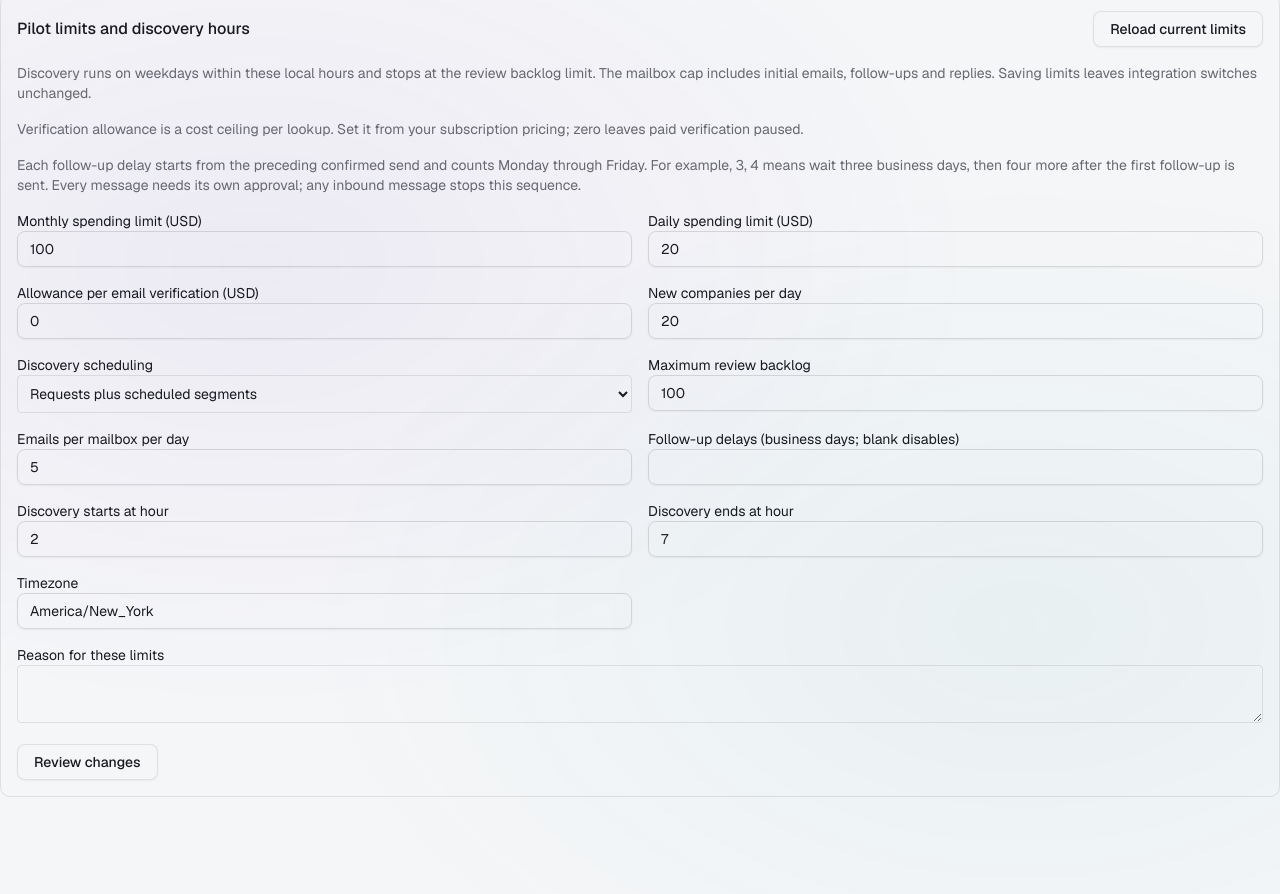
Test case: holds a failed write until refresh, then reloads the newer operator values for a fresh review
Replace the text in the field labelled "Monthly spending limit (USD)" with "500" at (324, 249), box [17, 231, 632, 267]
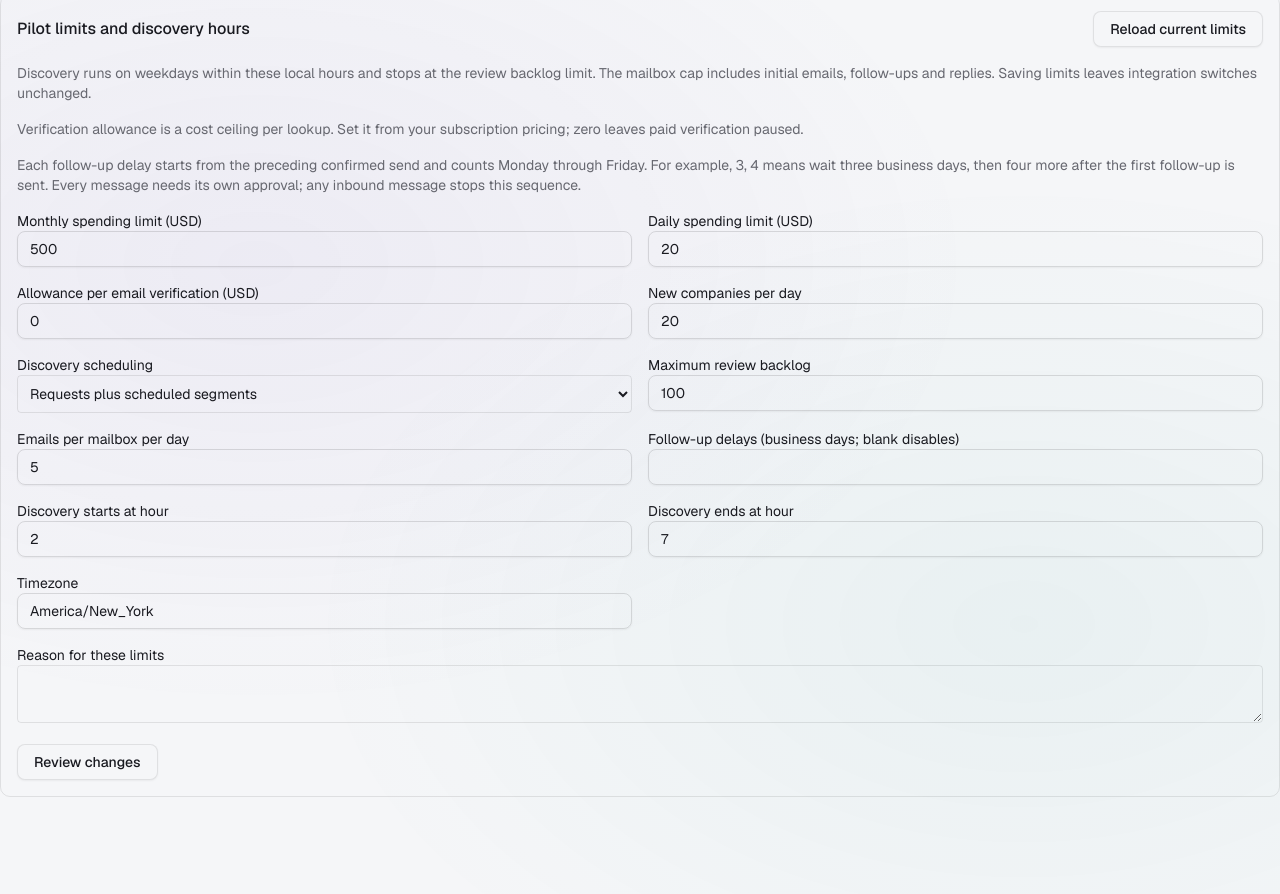
Type "Reviewed pilot spending ceiling" into the text box labelled "Reason for these limits" at (640, 694), box [17, 665, 1263, 723]
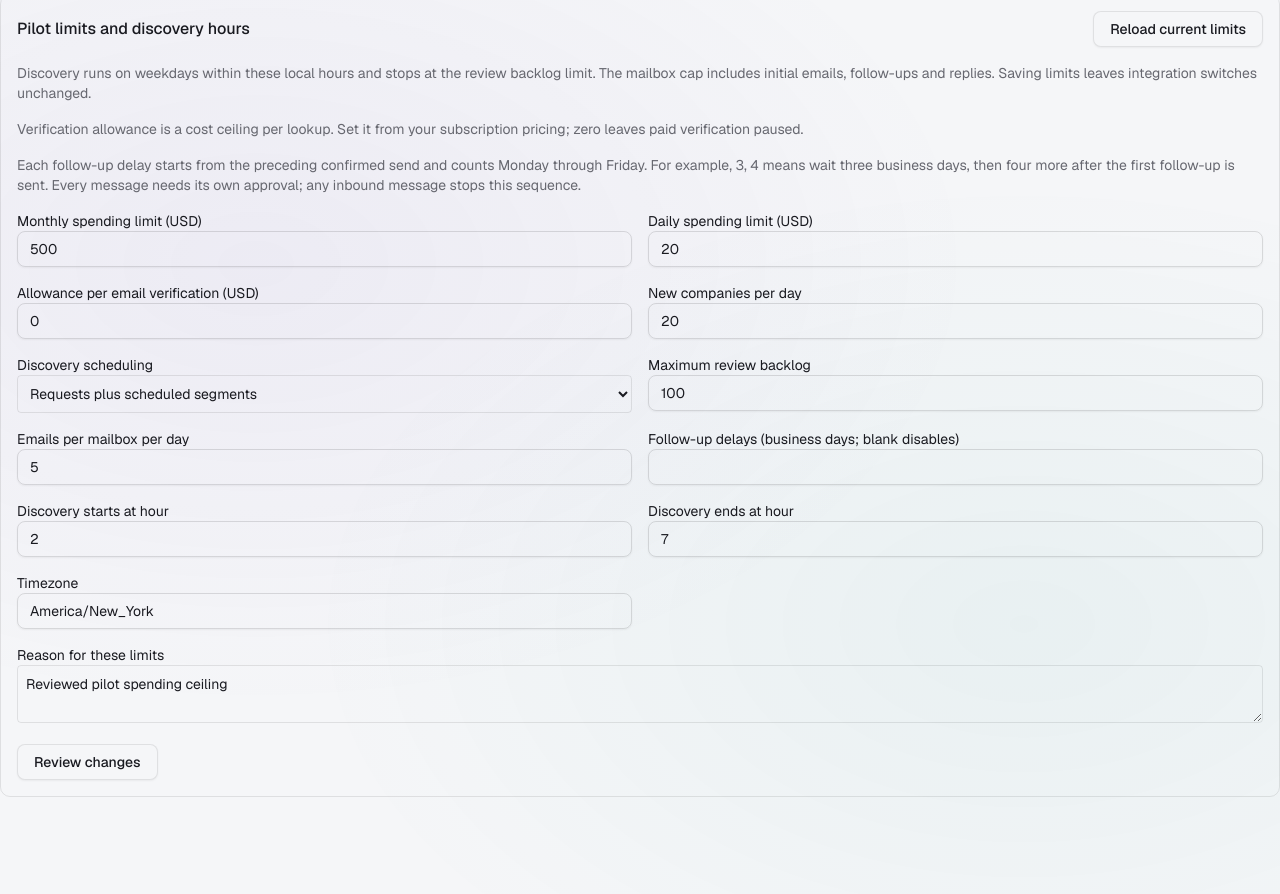
Click the button "Review changes" at (87, 762), box [17, 744, 158, 780]
(page scrolled)
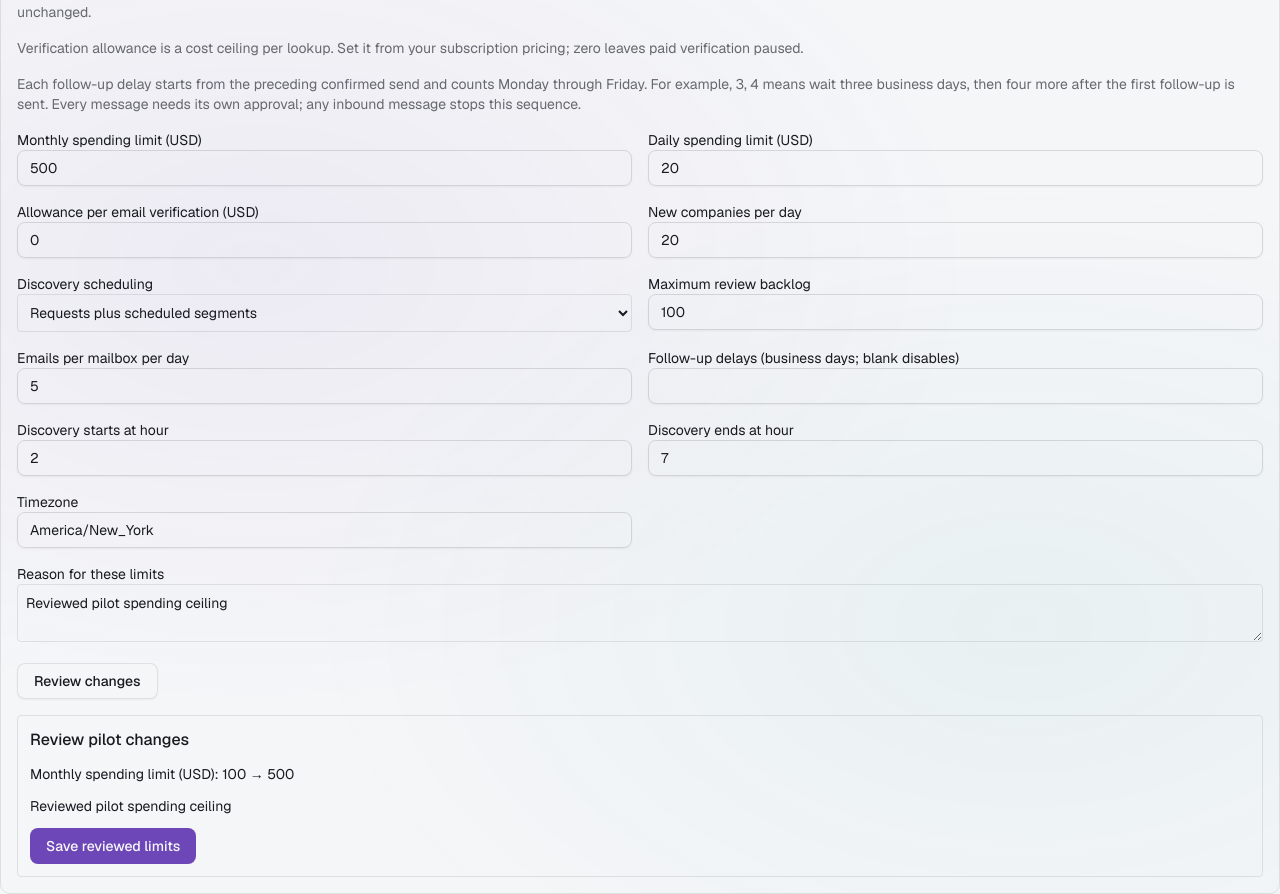
Click the button "Save reviewed limits" at (113, 846), box [30, 828, 196, 864]
(page scrolled)
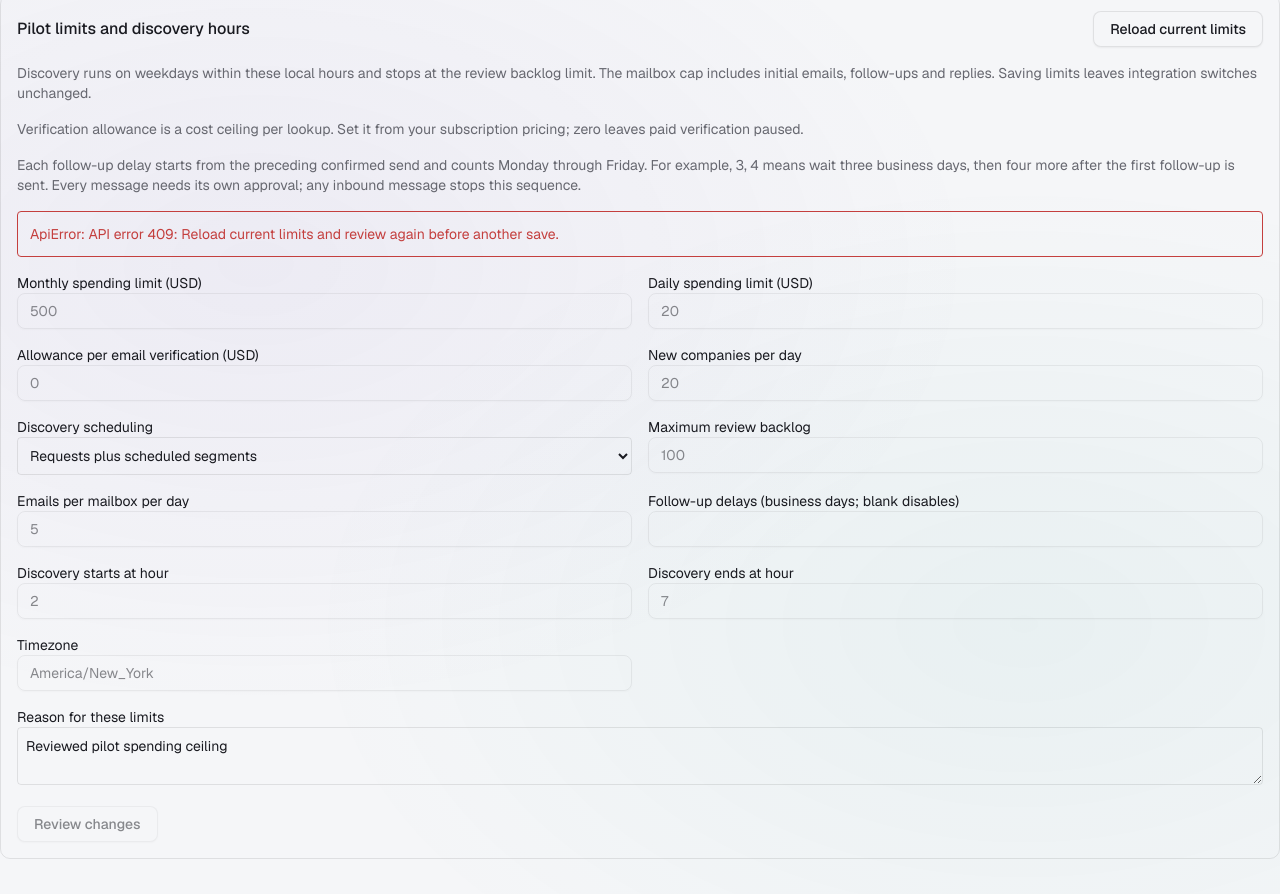
Expected: the message shows "Reload current limits", [30, 225, 558, 243]
Expected: the button "Review changes" is disabled, [17, 806, 158, 842]
Click the button "Reload current limits" at (1178, 29), box [1093, 11, 1263, 47]
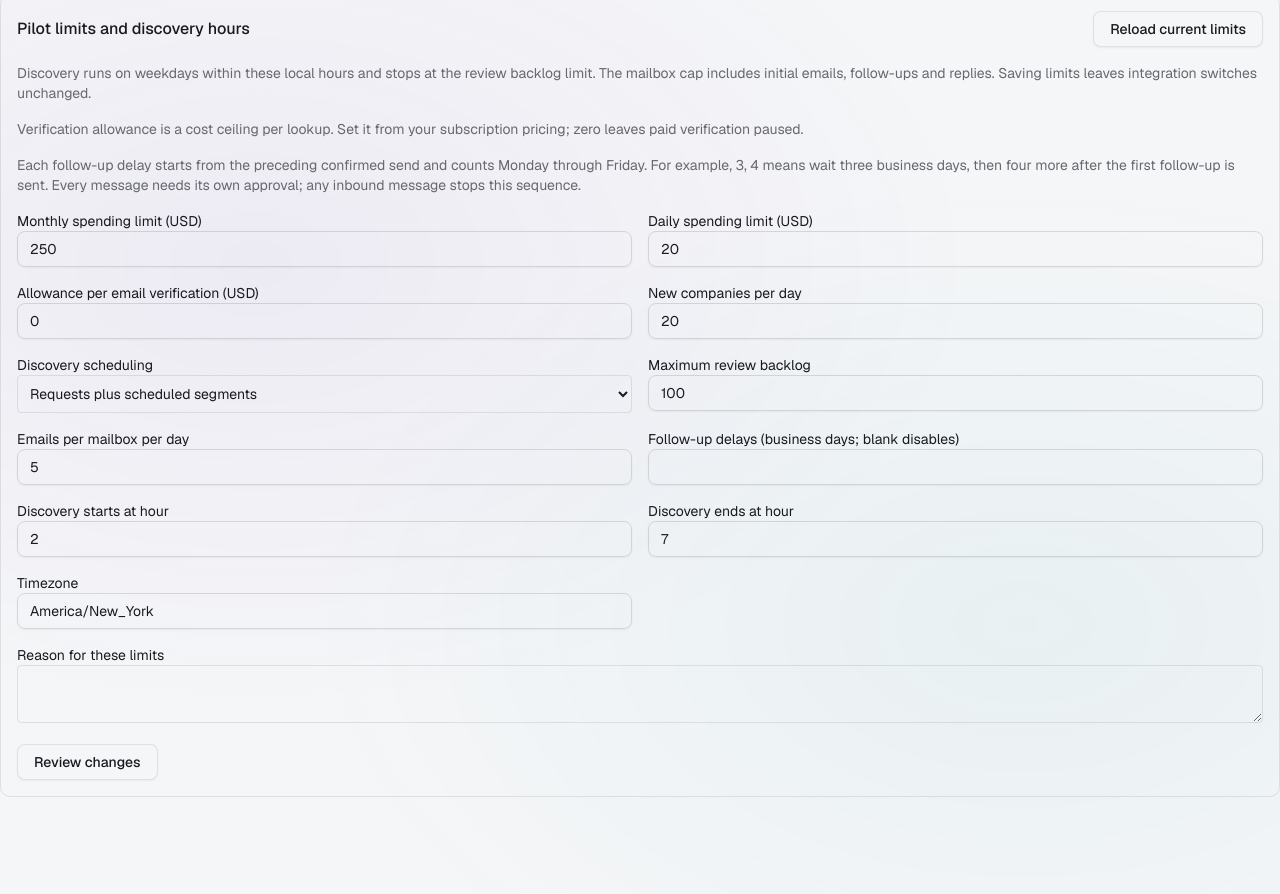
Expected: the button "Save reviewed limits" is not shown
Expected: the field labelled "Monthly spending limit (USD)" holds "250", [17, 231, 632, 267]
